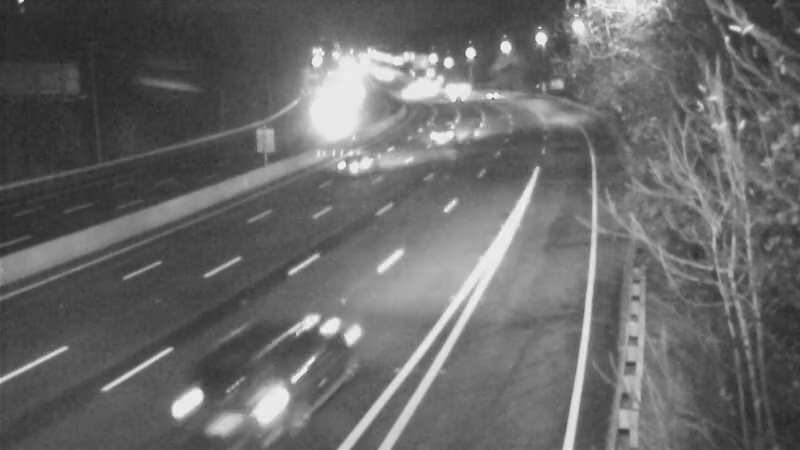vehicle: (172, 338, 282, 448), (314, 123, 394, 203), (464, 71, 514, 121), (418, 109, 468, 159)
